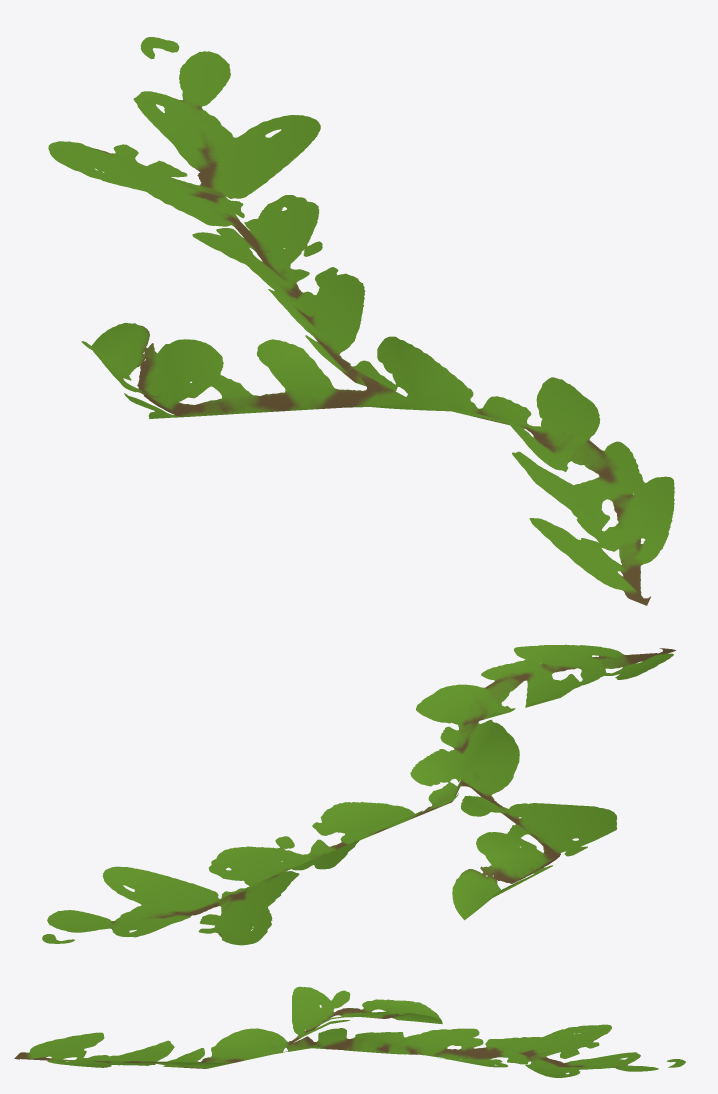
Rendered from mesh_vine_3.fbx.
3 renders of one model, top to bottom at view 1: azimuth 30°, elevation 25°; view 2: azimuth 150°, elevation 25°; view 3: azimuth 270°, elevation 25°, orthographic. The views are drawn at different scales.
Visible parts, largest first — view 1: mesh_vine_3; view 2: mesh_vine_3; view 3: mesh_vine_3.
Part boxes in pixels (box(x1,y1,x2,y2)): mesh_vine_3: box(48, 37, 674, 605); mesh_vine_3: box(42, 644, 675, 945); mesh_vine_3: box(14, 986, 685, 1077).
Size of the model in its own units: 14.7 by 2.52 by 38.52.
1 material, 1 textured.
